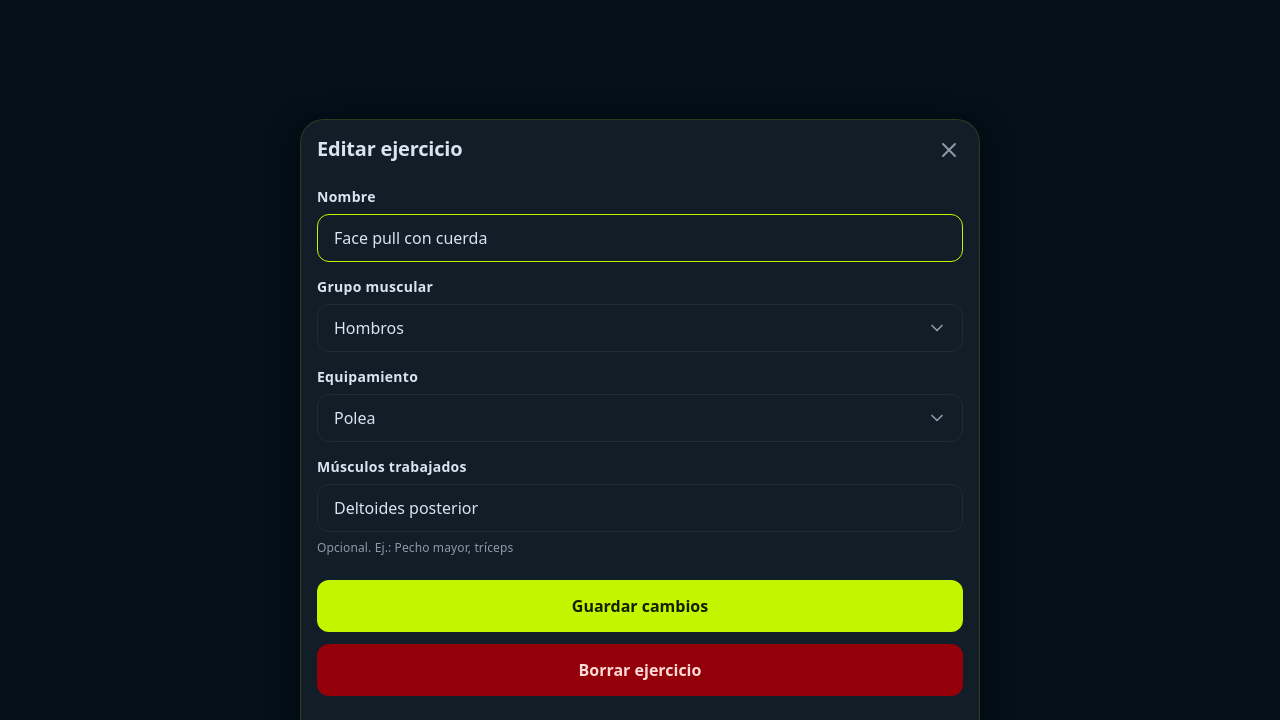
Test case: ExerciseSheet: editar › no deja renombrarlo al nombre de otro ejercicio
Replace the text in the field labelled "Nombre" with "jalon al pecho". click: coordinates (640, 238)
box: [317, 214, 963, 262]
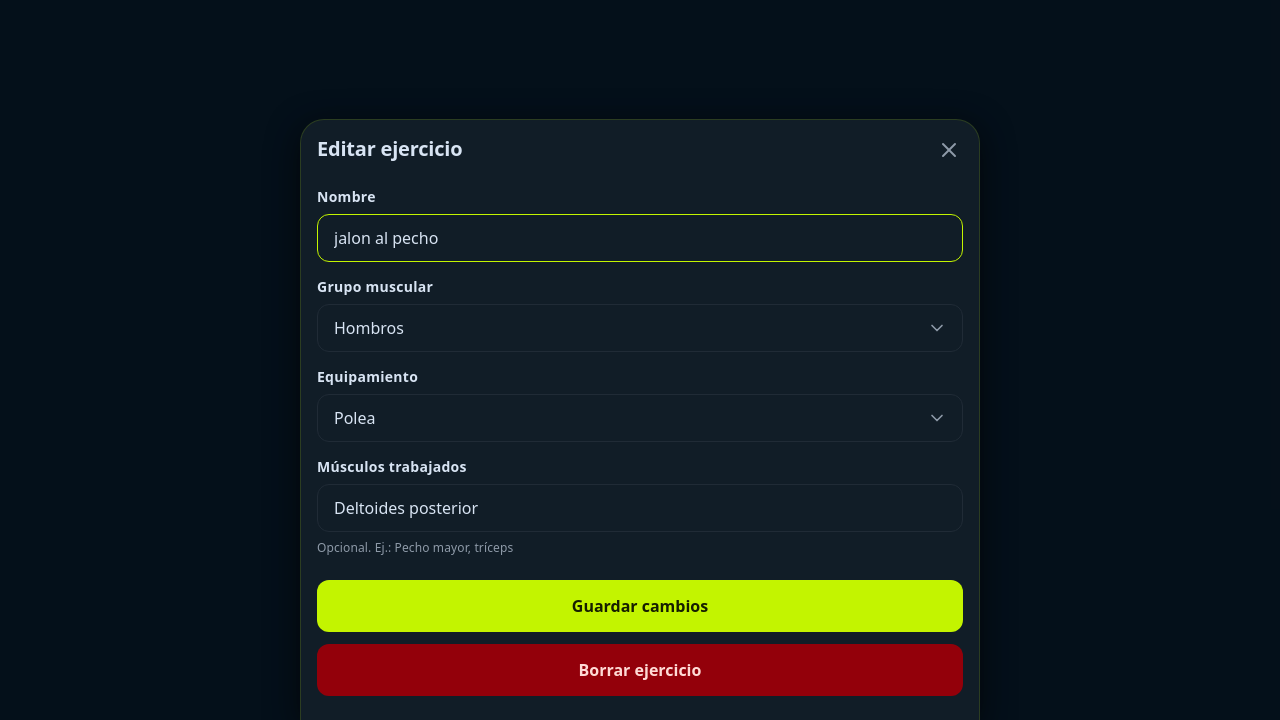
Click the button "Guardar cambios". click: coordinates (640, 606)
box: [317, 580, 963, 632]
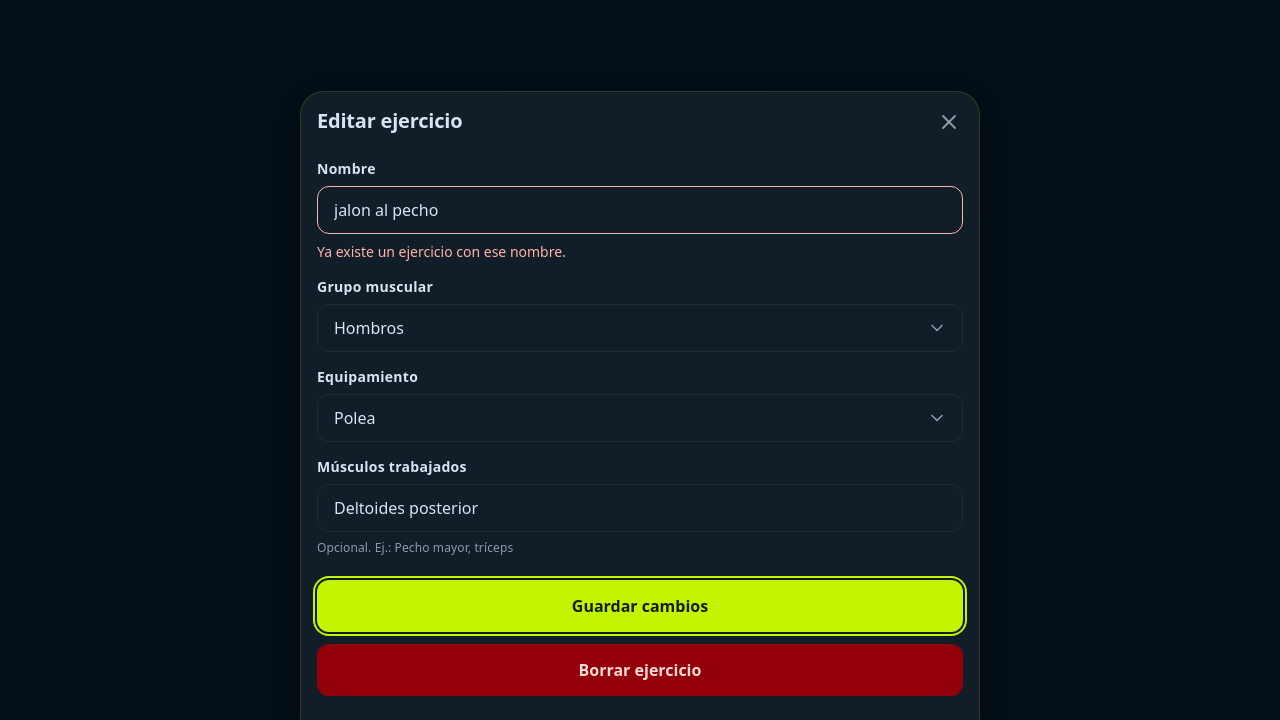
Now the text "Ya existe un ejercicio con ese nombre." is shown, box [317, 242, 566, 261]
